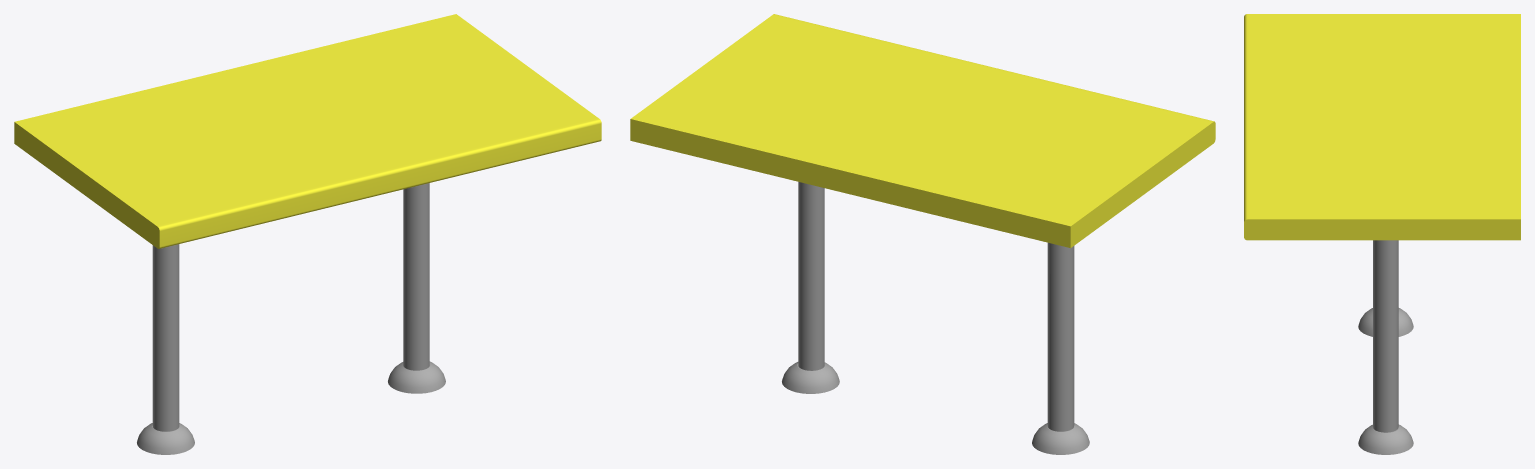
Rendered from table.fbx.
3 views of the same model, side by side, from view 1: azimuth 30°, elevation 25°; view 2: azimuth 150°, elevation 25°; view 3: azimuth 270°, elevation 25° (orthographic). The views are drawn at different scales.
Parts seen in each view (by area): view 1: pCube15, pCylinder25, pCylinder26, nurbsToPoly12, nurbsToPoly15; view 2: pCube15, pCylinder25, pCylinder26, nurbsToPoly12, nurbsToPoly15; view 3: pCube15, pCylinder26, nurbsToPoly12, nurbsToPoly15.
Boxes of the visible parts, <box> form: pCube15: <box>14,14,601,248</box>; pCylinder25: <box>152,244,179,431</box>; pCylinder26: <box>403,183,429,370</box>; nurbsToPoly12: <box>388,361,445,393</box>; nurbsToPoly15: <box>137,423,194,454</box>; pCube15: <box>630,14,1215,248</box>; pCylinder25: <box>1047,242,1074,431</box>; pCylinder26: <box>798,182,824,370</box>; nurbsToPoly12: <box>782,362,839,393</box>; nurbsToPoly15: <box>1032,423,1089,454</box>; pCube15: <box>1244,14,1520,240</box>; pCylinder26: <box>1373,240,1398,432</box>; nurbsToPoly12: <box>1358,424,1413,454</box>; nurbsToPoly15: <box>1358,308,1413,336</box>.
Bounding box in the file's own units: 5.39 × 3.37 × 3.07.
